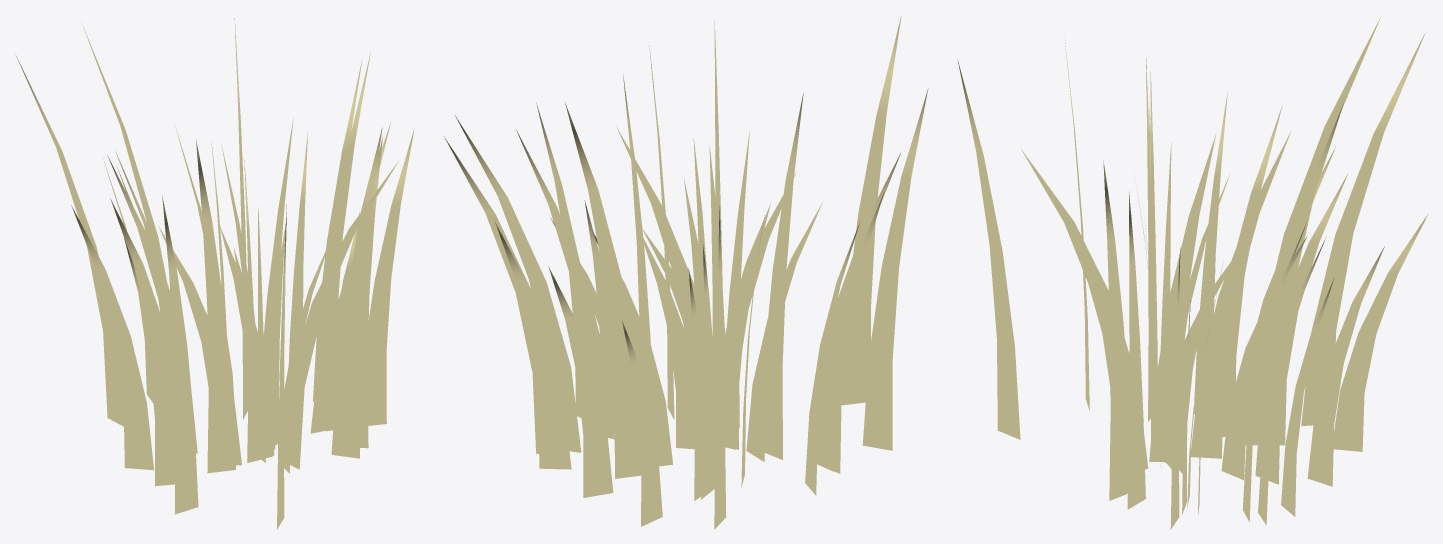
The model's file is Pasto_A.fbx.
The picture shows the model from 3 angles, left to right: view 1: azimuth 30°, elevation 25°; view 2: azimuth 150°, elevation 25°; view 3: azimuth 270°, elevation 25°; orthographic projection. The views are drawn at different scales.
Parts seen in each view (by area): view 1: Pasto_A; view 2: Pasto_A; view 3: Pasto_A.
Boxes of the visible parts, <box> form: Pasto_A: <box>15,18,414,529</box>; Pasto_A: <box>444,15,928,529</box>; Pasto_A: <box>957,17,1427,529</box>.
Bounding box in the file's own units: 0.4583 × 0.4958 × 0.5192.
